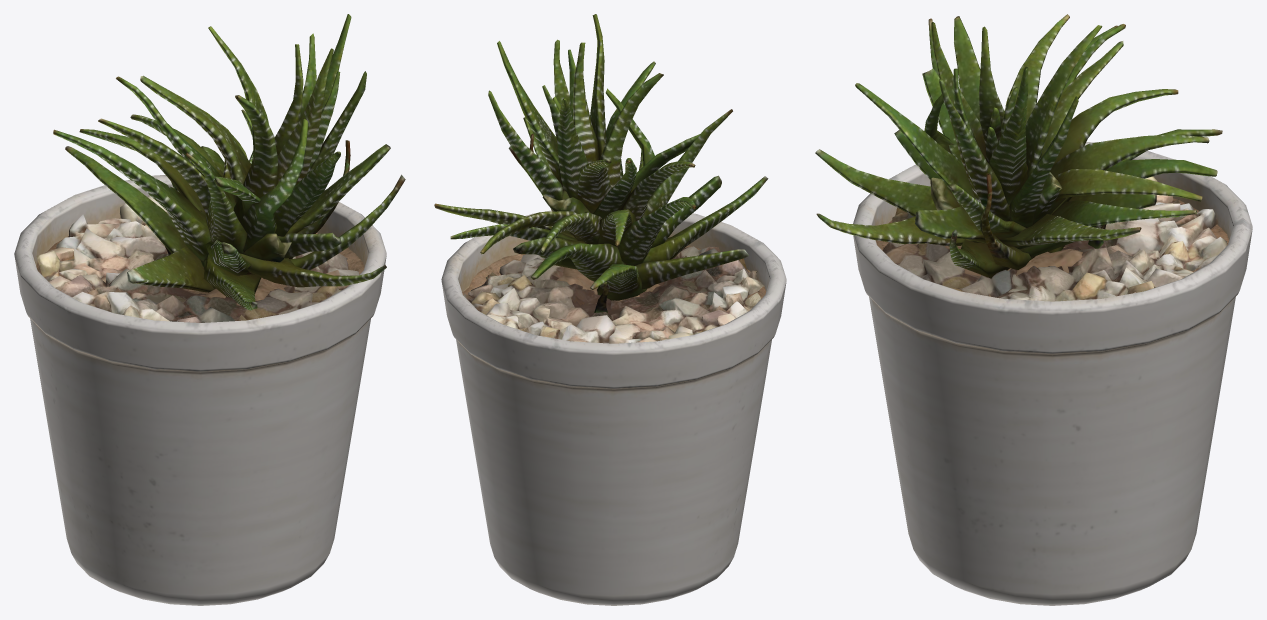
The model's file is AR-Code-1676868739804.glb.
3 renders of one model, left to right at view 1: azimuth 30°, elevation 25°; view 2: azimuth 150°, elevation 25°; view 3: azimuth 270°, elevation 25°, orthographic. The views are drawn at different scales.
Parts seen in each view (by area): view 1: potted_plant_04; view 2: potted_plant_04; view 3: potted_plant_04.
Part boxes in pixels (<box>): potted_plant_04: <box>14,14,405,605</box>; potted_plant_04: <box>434,14,786,605</box>; potted_plant_04: <box>815,14,1252,605</box>.
Size of the model in its own units: 0.1703 by 0.2676 by 0.1859.
1 material, 1 textured.
